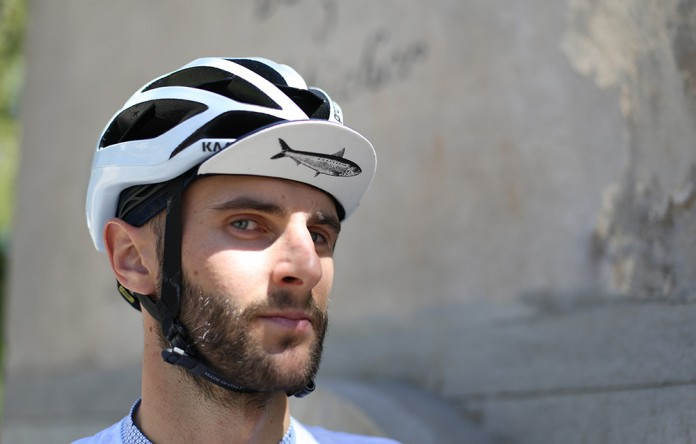helmet: (86, 55, 376, 202)
